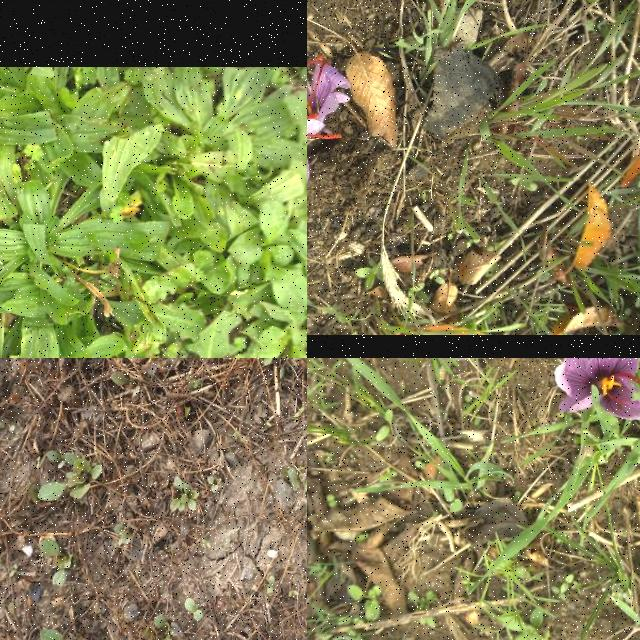flower: (554, 358, 640, 421)
overlap: (307, 55, 350, 252)
